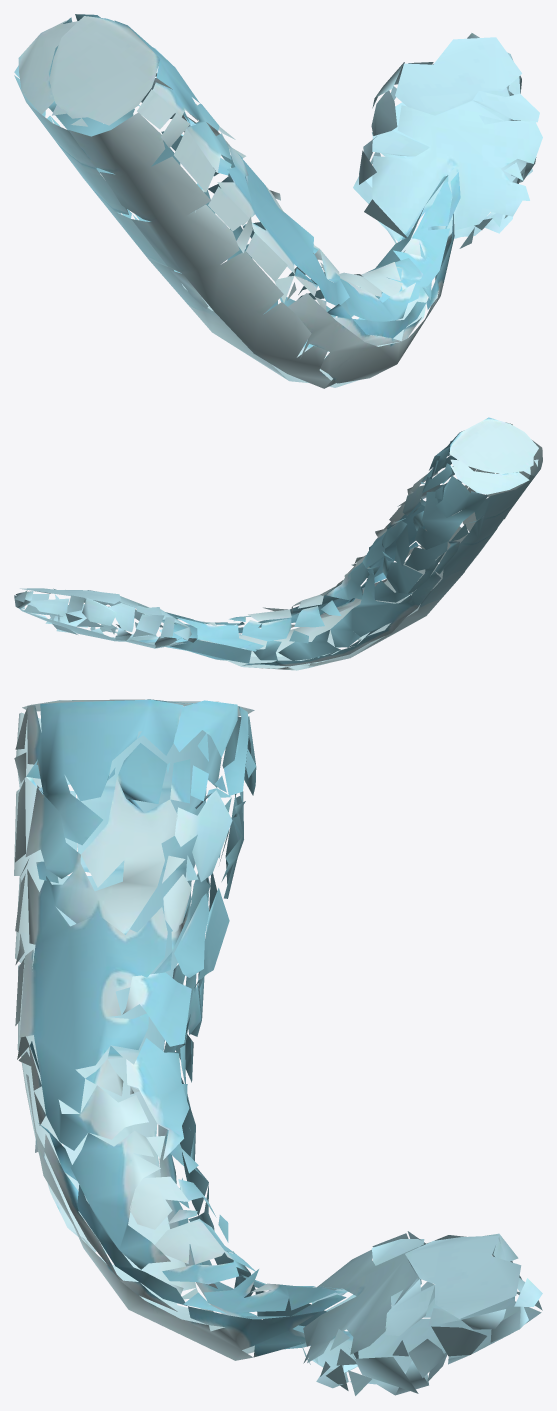
The model's file is seiran_dragon_tail.glb.
3 views of the same model, one above another, from view 1: azimuth 30°, elevation 25°; view 2: azimuth 150°, elevation 25°; view 3: azimuth 270°, elevation 25° (orthographic). The views are drawn at different scales.
Parts seen in each view (by area): view 1: dragon_tail; view 2: dragon_tail; view 3: dragon_tail.
Part boxes in pixels (left/top/right/bottom): dragon_tail: left=14, top=14, right=542, bottom=388; dragon_tail: left=14, top=417, right=542, bottom=670; dragon_tail: left=14, top=699, right=542, bottom=1395.
Size of the model in its own units: 0.7268 by 0.4508 by 0.4516.
1 material, 1 textured.
